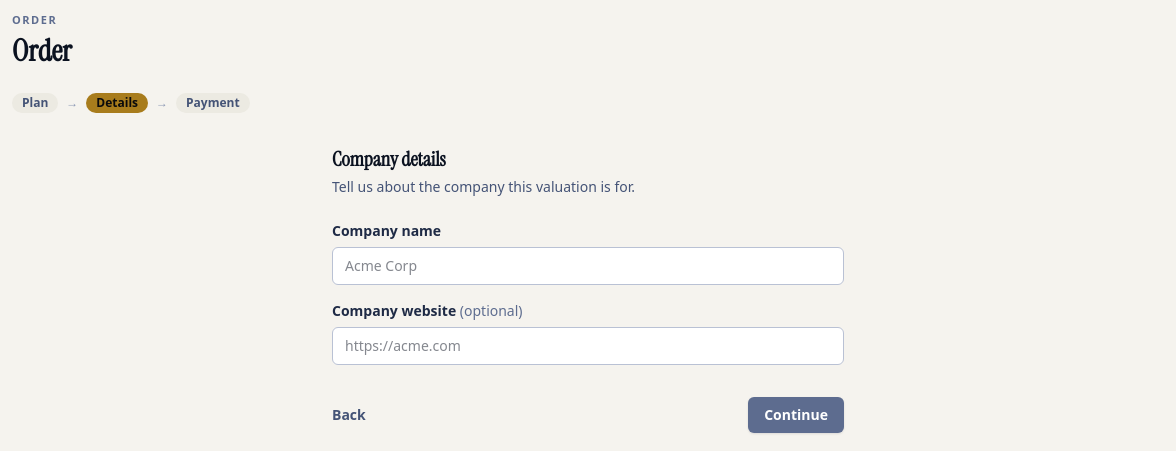
Test: OrderPage › can navigate back from details to plan
Expected: the element with test id "company-details" is shown, left=332, top=144, right=844, bottom=432
Click the button "Back": coordinates (349, 414) left=332, top=404, right=366, bottom=424
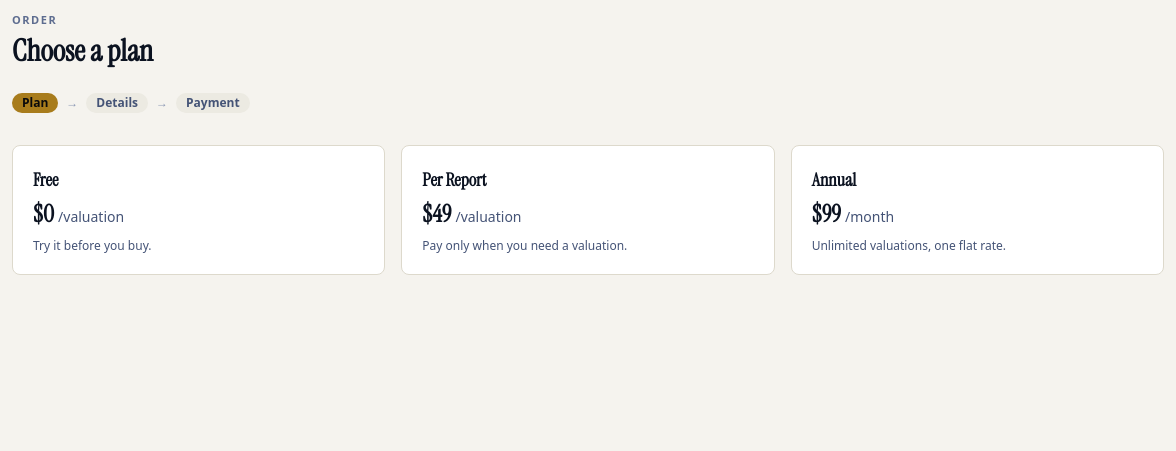
Expected: the element with test id "plan-selector" is shown, left=12, top=144, right=1164, bottom=274
